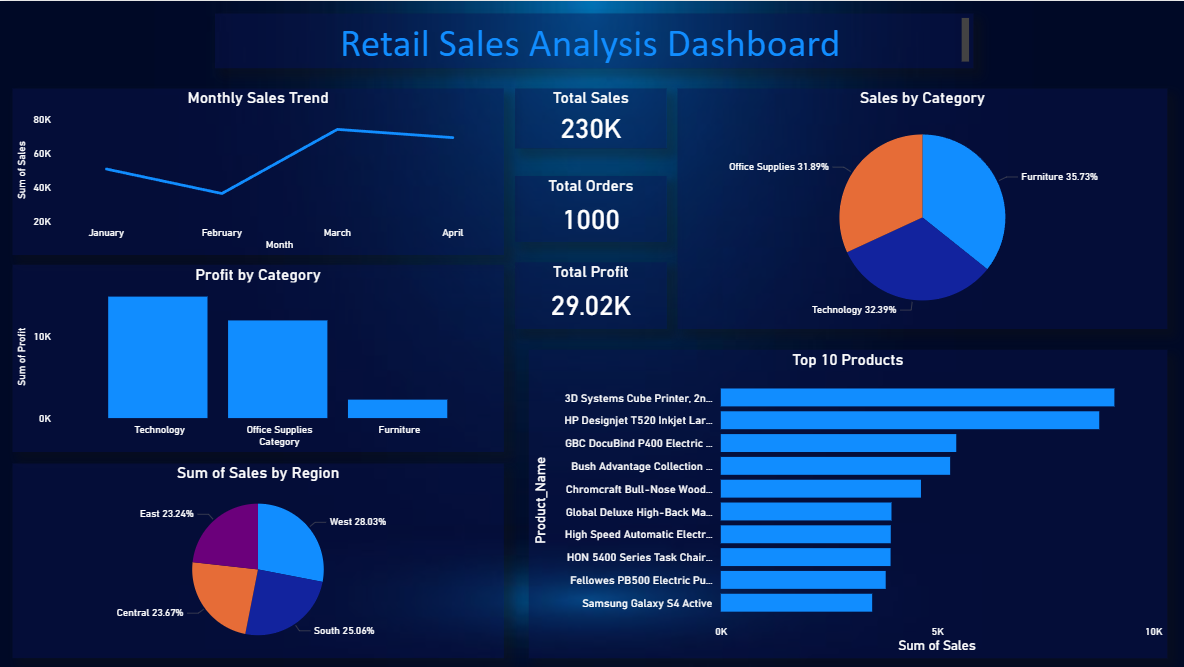

This screenshot's page, from the dashboard's own definition file:
{"tool":"powerbi","page":{"name":"Page 1","canvas":[1280,720],"ordinal":0},"visuals":[{"type":"card","title":"Total Sales","fields":{"Values":["Sum(superstore.Sales)"]},"box":[557.3,94.5,164.2,64.7],"z":0},{"type":"card","title":"Total Profit","fields":{"Values":["Sum(superstore.Profit)"]},"box":[557.3,282.4,164.2,72.1],"z":1000},{"type":"card","title":"Total Orders","fields":{"Values":["CountNonNull(superstore.Order_ID)"]},"box":[557.3,189.1,164.2,70.9],"z":2000},{"type":"lineChart","title":"Monthly Sales Trend","fields":{"Category":["superstore.Order_Date.Variation.Date Hierarchy.Month"],"Y":["Sum(superstore.Sales)"]},"box":[13.7,94.5,531.2,180.4],"z":3000},{"type":"pieChart","title":"Sales by Category","fields":{"Y":["Sum(superstore.Sales)"],"Category":["superstore.Category"]},"box":[732.7,94.5,529.9,260],"z":4000},{"type":"clusteredColumnChart","title":"Profit by Category","fields":{"Category":["superstore.Category"],"Y":["Sum(superstore.Profit)"]},"box":[13.7,284.9,531.2,202.8],"z":5000},{"type":"clusteredBarChart","title":"Top 10 Products","fields":{"Category":["superstore.Product_Name"],"Y":["Sum(superstore.Sales)"]},"box":[572.2,376.9,690.4,333.4],"z":6000},{"type":"pieChart","fields":{"Category":["superstore.Region"],"Y":["Sum(superstore.Sales)"]},"box":[13.7,500.1,531.2,210.2],"z":7000},{"type":"textbox","box":[232.9,13.9,820.3,59.5],"z":8000}]}

Visuals, with their boxes in screenshot pixels (x1, y1, x2, y2), scaled from the page's 1280x720 canvas onto the 1184x667 screenshot:
"Total Sales" card: <box>516,88,667,147</box>
"Total Profit" card: <box>516,262,667,328</box>
"Total Orders" card: <box>516,175,667,241</box>
"Monthly Sales Trend" lineChart: <box>13,88,504,255</box>
"Sales by Category" pieChart: <box>678,88,1168,328</box>
"Profit by Category" clusteredColumnChart: <box>13,264,504,452</box>
"Top 10 Products" clusteredBarChart: <box>529,349,1168,658</box>
pieChart - superstore.Region x Sum(superstore.Sales): <box>13,463,504,658</box>
textbox: <box>215,13,974,68</box>
